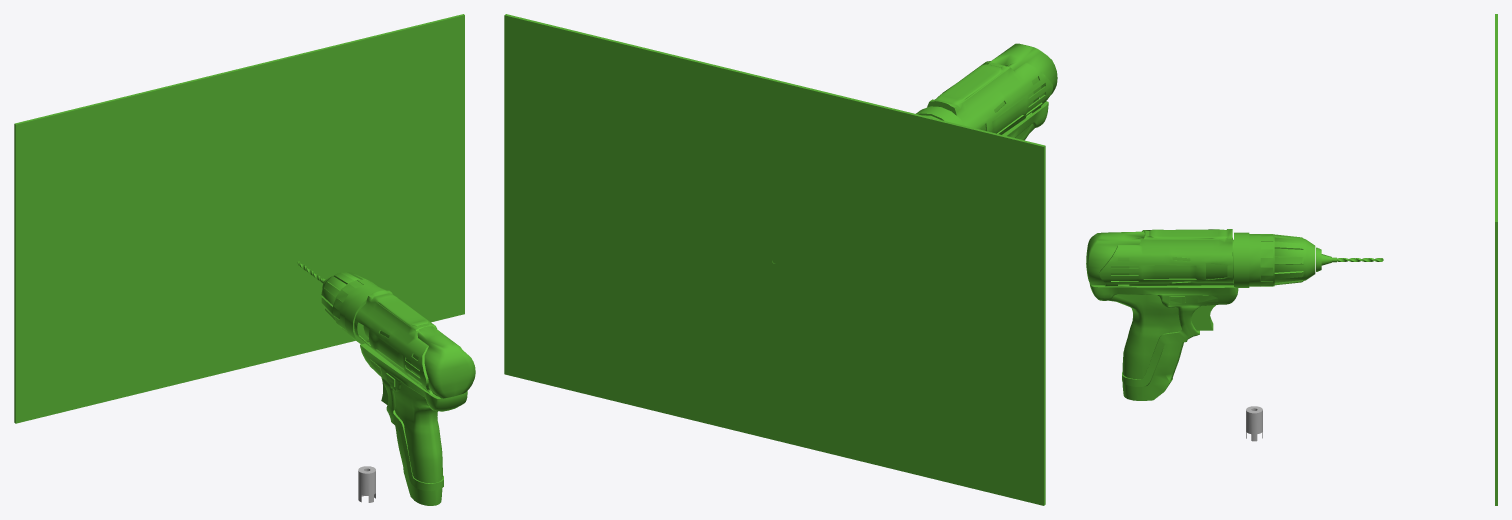
File: furadeira-certa.fbx
The picture shows the model from 3 angles, left to right: view 1: azimuth 30°, elevation 25°; view 2: azimuth 150°, elevation 25°; view 3: azimuth 270°, elevation 25°; orthographic projection. The views are drawn at different scales.
Parts seen in each view (by area): view 1: pCube1, polySurface32, polySurface22, polySurface27, pCube3, polySurface26, polySurface23, polySurface29, pCylinder3; view 2: pCube3, polySurface32, polySurface27, pCube1; view 3: polySurface32, polySurface22, polySurface26, polySurface27, polySurface23, pCube3, pCube1, polySurface29, polySurface24, pCylinder3, polySurface21.
Boxes of the visible parts, left/top/right/bottom form: pCube1: left=14, top=15, right=464, bottom=423; polySurface32: left=354, top=290, right=467, bottom=491; polySurface22: left=393, top=382, right=447, bottom=505; polySurface27: left=417, top=326, right=475, bottom=398; pCube3: left=14, top=14, right=464, bottom=423; polySurface26: left=297, top=261, right=368, bottom=319; polySurface23: left=333, top=279, right=380, bottom=332; polySurface29: left=345, top=287, right=386, bottom=344; pCylinder3: left=358, top=466, right=375, bottom=502; pCube3: left=504, top=14, right=1044, bottom=505; polySurface32: left=927, top=61, right=1052, bottom=137; polySurface27: left=990, top=43, right=1057, bottom=97; pCube1: left=506, top=14, right=1045, bottom=505; polySurface32: left=1089, top=229, right=1238, bottom=386; polySurface22: left=1109, top=284, right=1185, bottom=400; polySurface26: left=1274, top=234, right=1383, bottom=285; polySurface27: left=1086, top=231, right=1144, bottom=285; polySurface23: left=1249, top=234, right=1274, bottom=286; pCube3: left=1495, top=14, right=1497, bottom=505; pCube1: left=1495, top=14, right=1497, bottom=505; polySurface29: left=1234, top=232, right=1249, bottom=287; polySurface24: left=1111, top=239, right=1233, bottom=280; pCylinder3: left=1246, top=406, right=1262, bottom=441; polySurface21: left=1191, top=305, right=1215, bottom=330.
Size of the model in its own units: 766 by 549 by 640.
